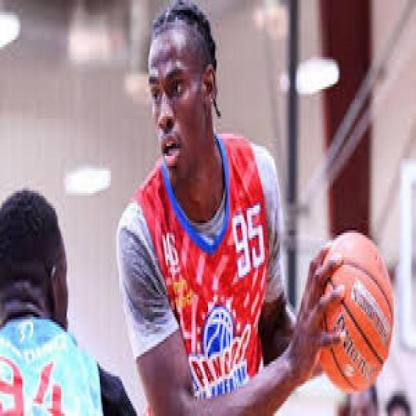basketball: (310, 233, 392, 391)
